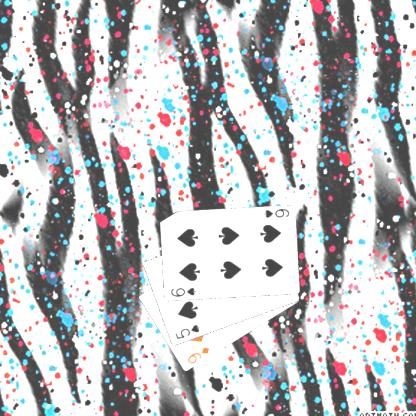5S: (172, 322, 201, 340)
6S: (261, 206, 290, 219), (168, 286, 196, 298)
9D: (184, 344, 210, 366)
